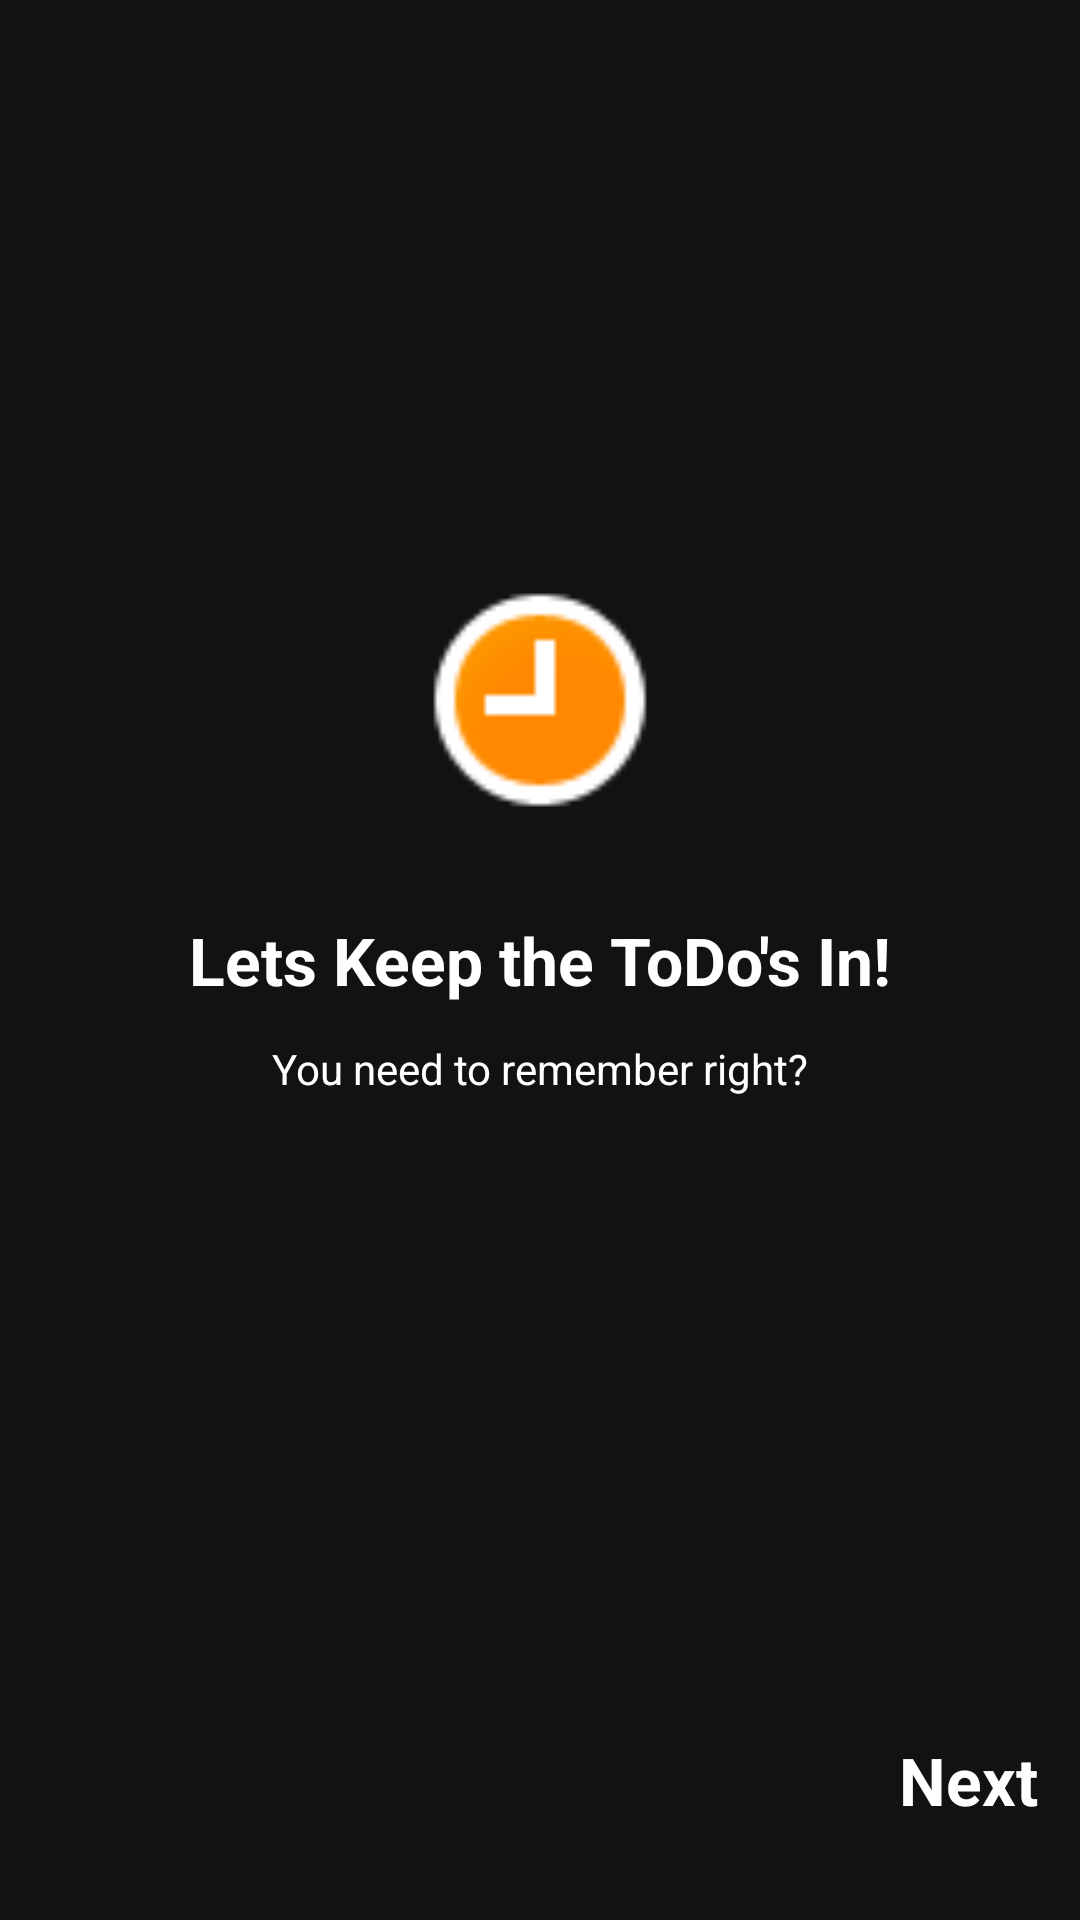

Icon click points for this 1080px×1920px phone screenshot, format point (x, y):
presence away: point (540, 700)
